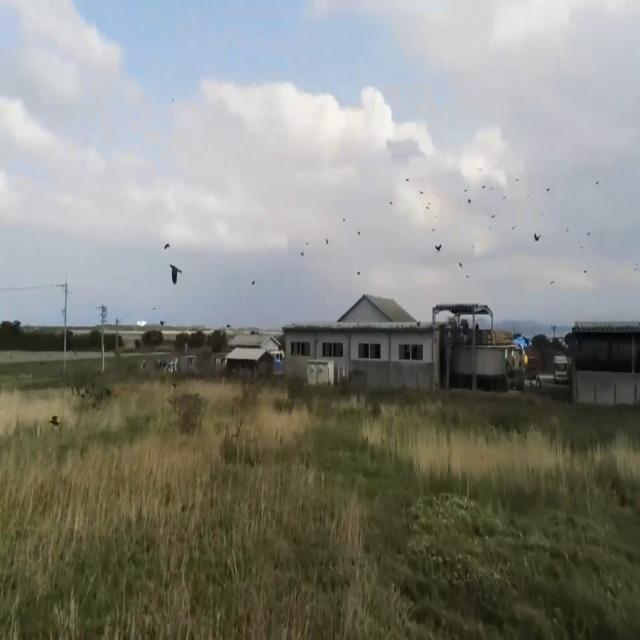bird: (169, 254, 182, 296), (533, 226, 541, 250), (434, 237, 442, 259), (164, 235, 170, 256)
